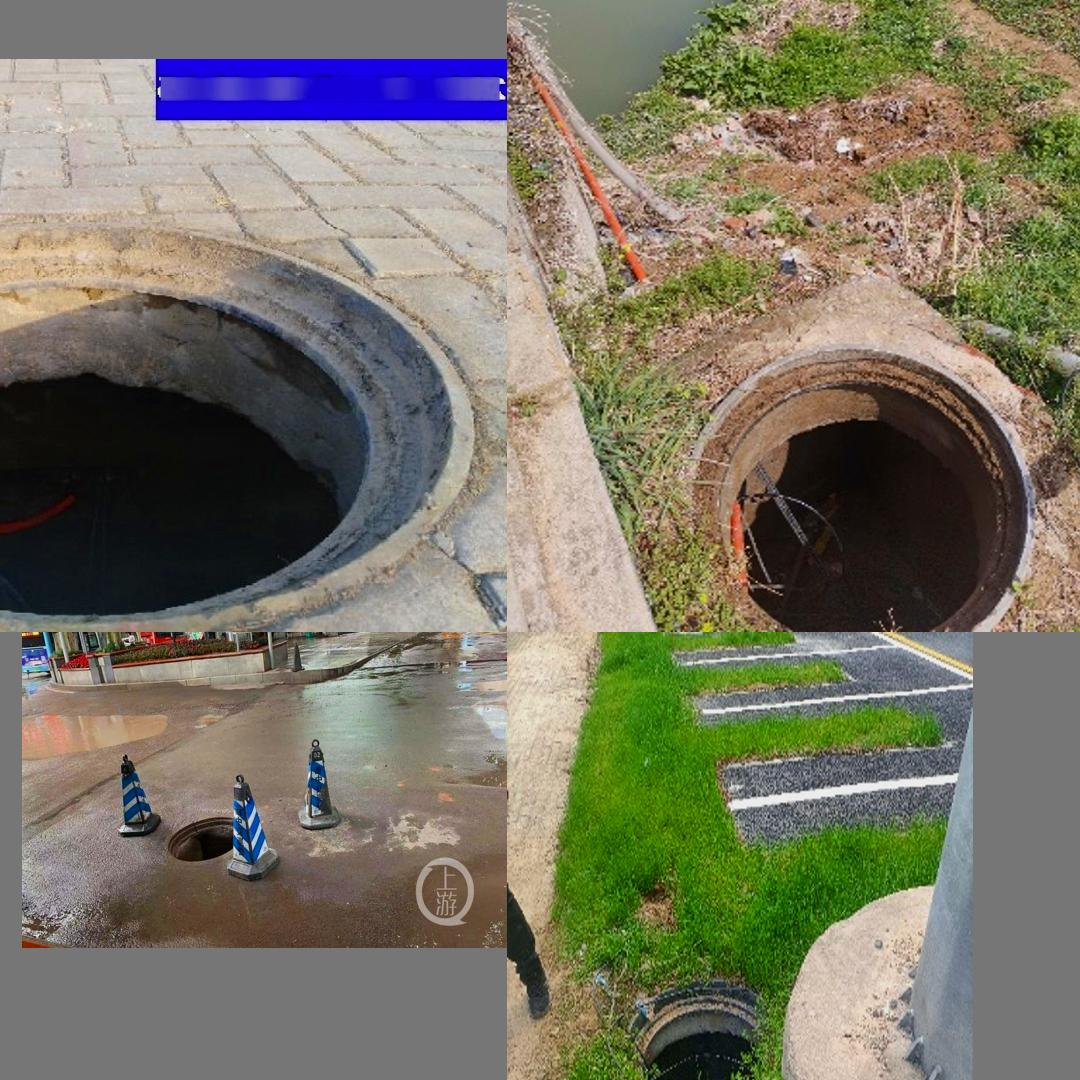lose: (0, 218, 478, 632), (663, 358, 1035, 622), (622, 981, 777, 1080), (163, 803, 249, 868)
